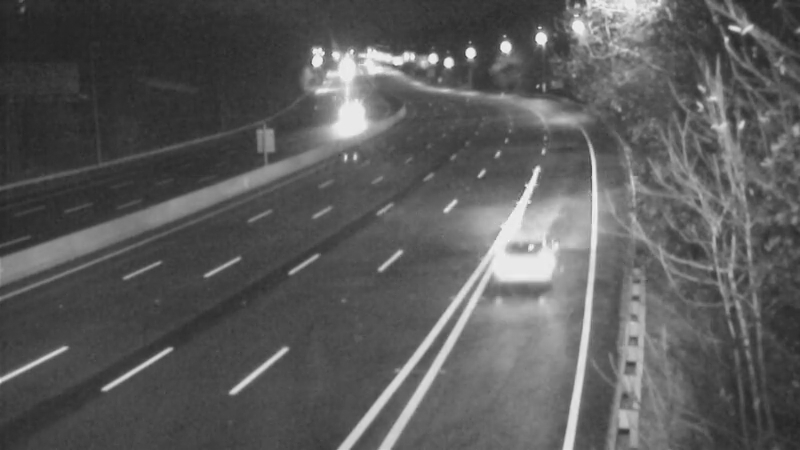vehicle: (482, 223, 562, 303), (322, 97, 372, 147)
